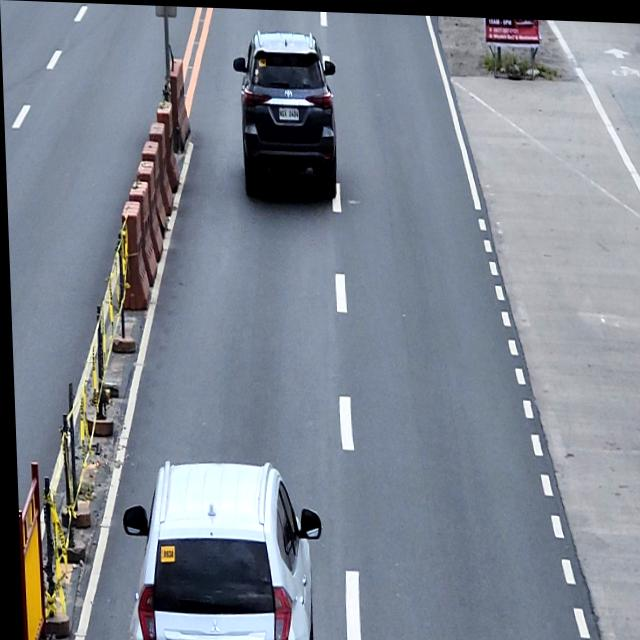Car: (116, 455, 322, 640), (232, 26, 338, 197)
License-Plate: (276, 102, 300, 120)
